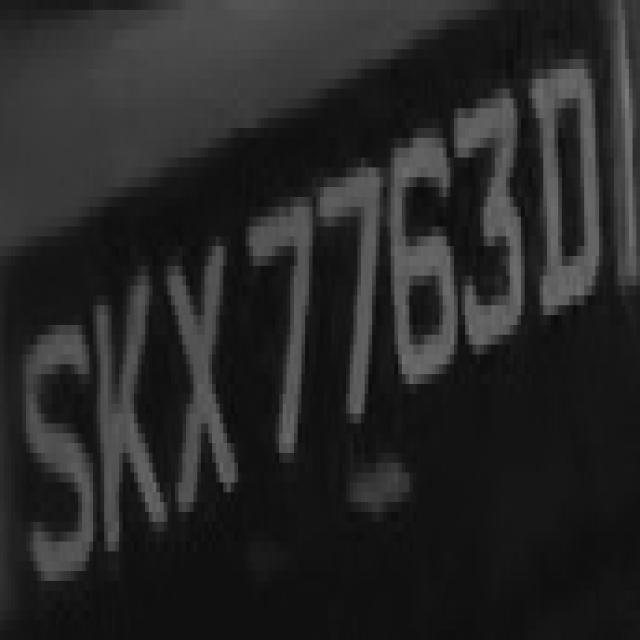3: (458, 89, 524, 384)
6: (376, 89, 458, 453)
7: (242, 187, 316, 492), (320, 138, 383, 472)
D: (536, 49, 610, 364)
K: (78, 256, 168, 581)
S: (19, 296, 89, 620)
X: (156, 226, 250, 542)
